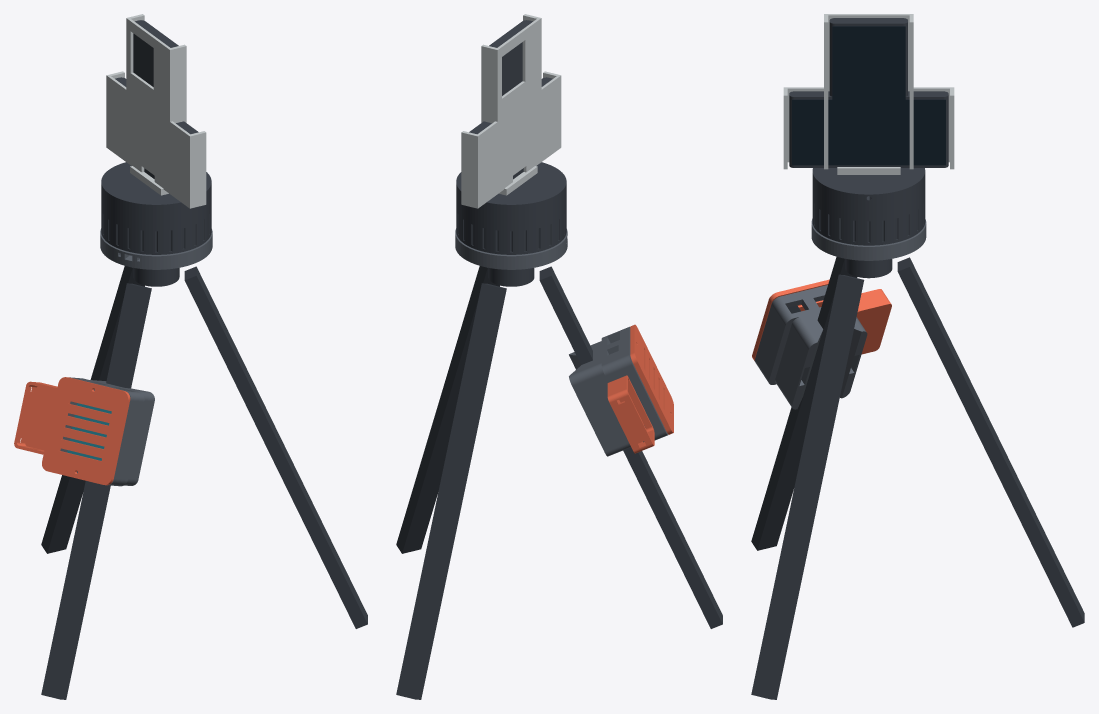
Rendered from followcam_pod_v4.glb.
3 views of the same model, side by side, from view 1: azimuth 30°, elevation 25°; view 2: azimuth 150°, elevation 25°; view 3: azimuth 270°, elevation 25° (orthographic). The views are drawn at different scales.
Parts seen in each view (by area): view 1: leg-001, 06_cradle_portrait, 04_rotor, leg-002, 09_uno_lid, 07_cradle_landscape, leg, 11_aa_bay, 01_stator_shell, 08_uno_tray, phone, 10_leg_saddle (+2 smaller); view 2: leg, 04_rotor, 07_cradle_landscape, 06_cradle_portrait, leg-002, leg-001, 10_leg_saddle, 08_uno_tray, 11_aa_bay, 09_uno_lid, 01_stator_shell, phone (+1 smaller); view 3: leg-002, screen, 04_rotor, leg, screen-001, leg-001, 10_leg_saddle, 08_uno_tray, 06_cradle_portrait, 01_stator_shell, 07_cradle_landscape, 11_aa_bay (+4 smaller).
Boxes of the visible parts, <box> form: leg-001: <box>41,283,151,699</box>; 06_cradle_portrait: <box>126,14,186,195</box>; 04_rotor: <box>101,162,211,254</box>; leg-002: <box>184,266,367,628</box>; 09_uno_lid: <box>42,377,130,485</box>; 07_cradle_landscape: <box>106,71,206,208</box>; leg: <box>41,266,144,553</box>; 11_aa_bay: <box>14,381,57,454</box>; 01_stator_shell: <box>100,228,212,269</box>; 08_uno_tray: <box>60,377,144,486</box>; phone: <box>133,20,178,178</box>; 10_leg_saddle: <box>90,380,154,485</box>; leg: <box>396,283,506,699</box>; 04_rotor: <box>456,162,566,254</box>; 07_cradle_landscape: <box>461,71,561,208</box>; 06_cradle_portrait: <box>481,14,541,194</box>; leg-002: <box>396,266,499,553</box>; leg-001: <box>539,266,722,628</box>; 10_leg_saddle: <box>569,341,630,456</box>; 08_uno_tray: <box>601,326,668,442</box>; 11_aa_bay: <box>607,375,654,453</box>; 09_uno_lid: <box>630,324,673,434</box>; 01_stator_shell: <box>455,228,567,269</box>; phone: <box>489,20,532,179</box>; leg-002: <box>751,274,864,699</box>; screen: <box>832,26,905,165</box>; 04_rotor: <box>812,168,925,245</box>; leg: <box>897,257,1084,627</box>; screen-001: <box>792,99,945,165</box>; leg-001: <box>751,257,857,550</box>; 10_leg_saddle: <box>775,312,867,409</box>; 08_uno_tray: <box>754,285,827,384</box>; 06_cradle_portrait: <box>824,14,913,174</box>; 01_stator_shell: <box>811,218,926,260</box>; 07_cradle_landscape: <box>783,87,954,174</box>; 11_aa_bay: <box>856,289,891,354</box>.
Size of the model in its own units: 0.3761 by 0.6518 by 0.3257.
